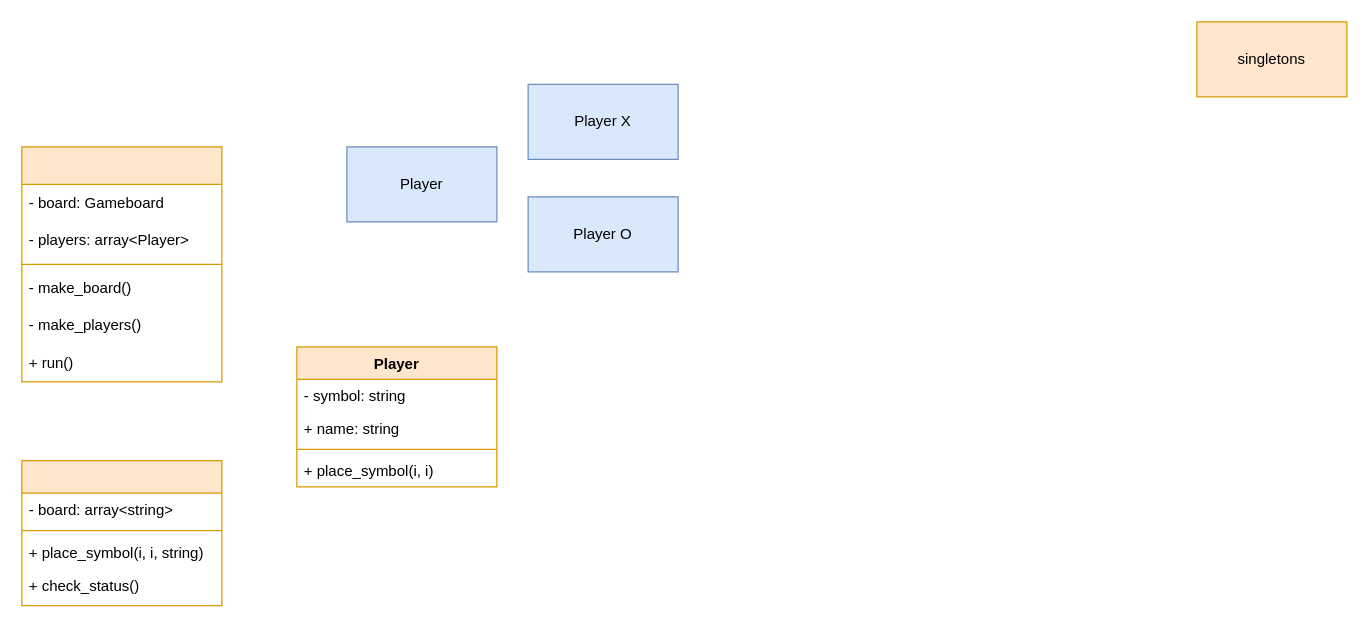
Image size: 1369x628. Some labels were removed from this diagram. Here are the shapes that lost their labels. From the top down, the box of each, then its label:
(21, 146, 222, 382): GameController
(21, 459, 222, 606): Gameboard
